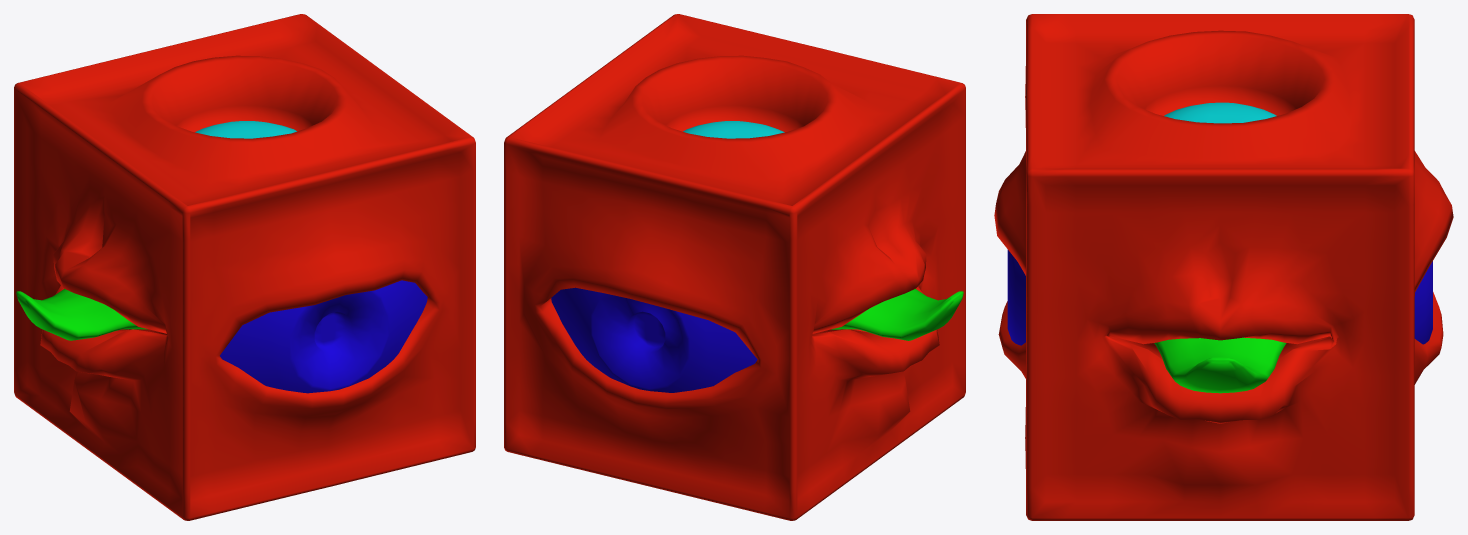
Rendered from ZIPHILIX.fbx.
The picture shows the model from 3 angles, left to right: view 1: azimuth 30°, elevation 25°; view 2: azimuth 150°, elevation 25°; view 3: azimuth 270°, elevation 25°; orthographic projection. The views are drawn at different scales.
Parts seen in each view (by area): view 1: Ziphilix; view 2: Ziphilix; view 3: Ziphilix.
Part boxes in pixels (<box>): Ziphilix: <box>14,14,475,520</box>; Ziphilix: <box>504,14,965,520</box>; Ziphilix: <box>994,14,1453,520</box>.
Bounding box in the file's own units: 551 × 397 × 436.
